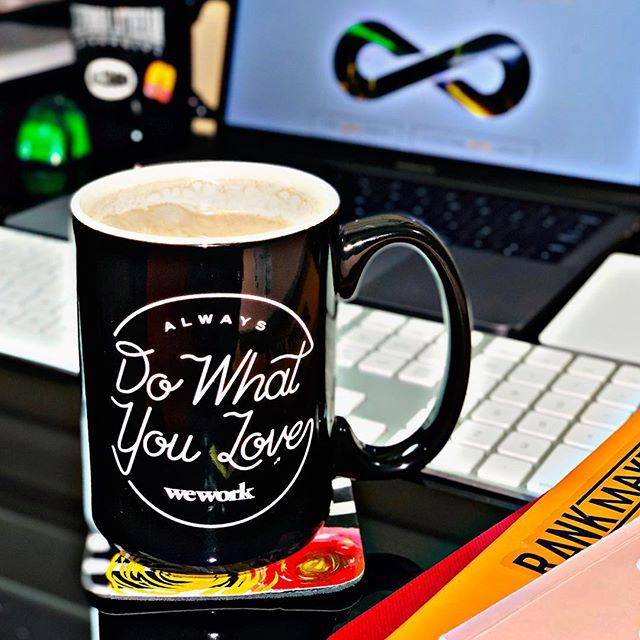wework: (159, 478, 262, 504)
